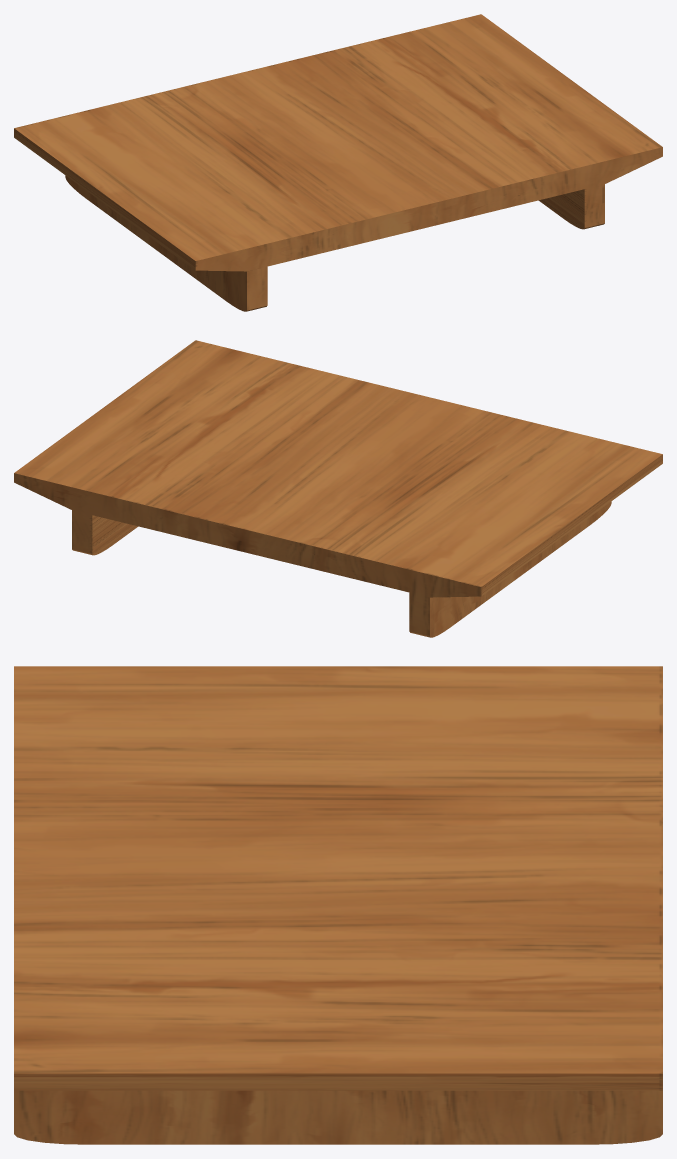
File: sushisunummasa.fbx
3 renders of one model, top to bottom at view 1: azimuth 30°, elevation 25°; view 2: azimuth 150°, elevation 25°; view 3: azimuth 270°, elevation 25°, orthographic. The views are drawn at different scales.
Visible parts, largest first — view 1: Sushi sunum tahtası; view 2: Sushi sunum tahtası; view 3: Sushi sunum tahtası.
Part boxes in pixels (left/top/right/bottom): Sushi sunum tahtası: left=14, top=14, right=662, bottom=311; Sushi sunum tahtası: left=14, top=340, right=662, bottom=637; Sushi sunum tahtası: left=14, top=666, right=662, bottom=1144.
Bounding box in the file's own units: 795 × 110 × 535.
1 material, 1 textured.
